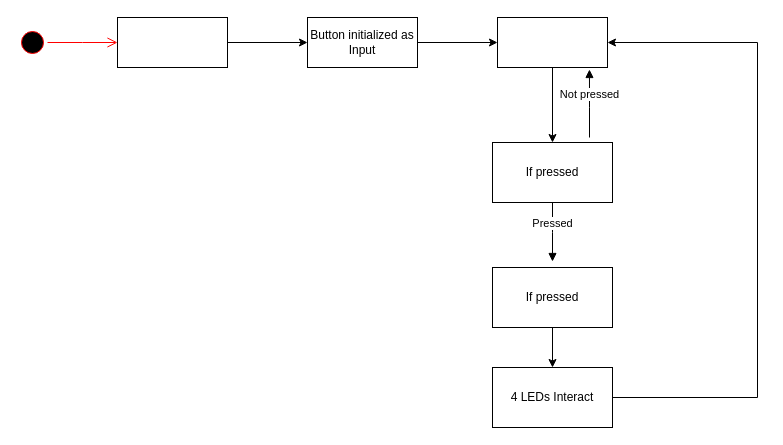
Some shapes in this 783 by 445 pixel diagram are drawn without their labels. Each missing label, with the centre of its shape:
"Button Checking" goes at point (552, 42).
"LED initialized as output" goes at point (172, 42).
